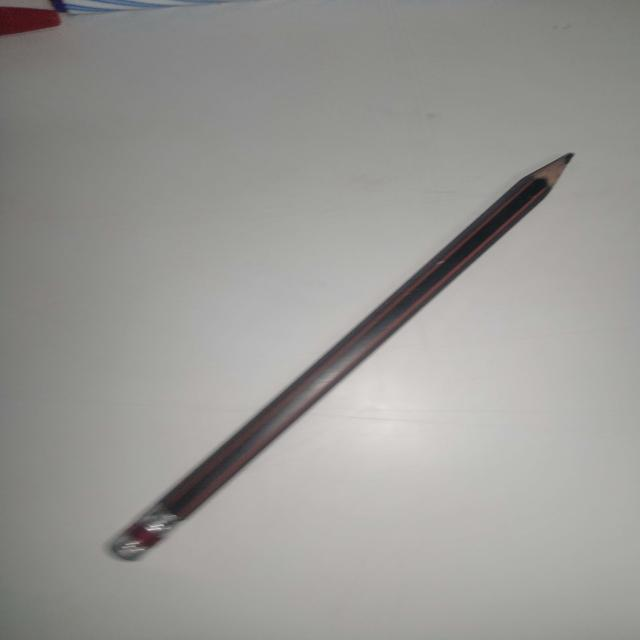pen_pencil: (81, 123, 601, 638)
